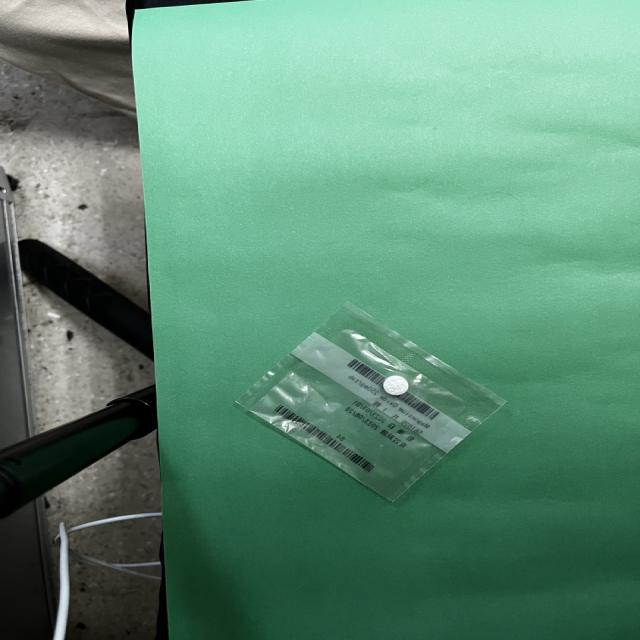Other Objects: (236, 304, 505, 501)
